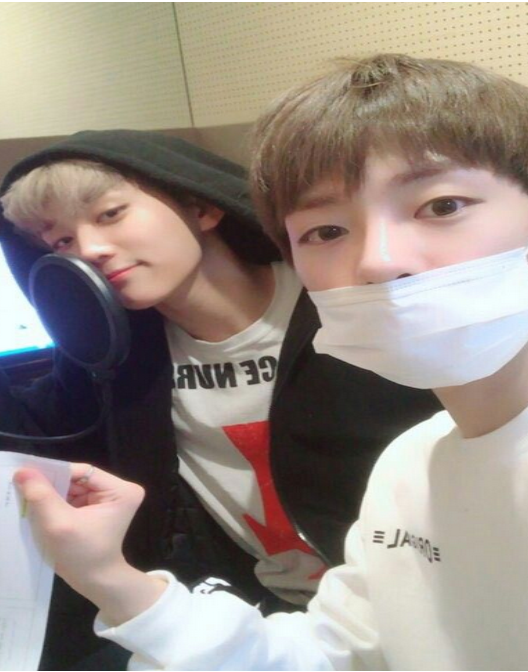mask_weared_incorrect: (258, 57, 528, 391)
